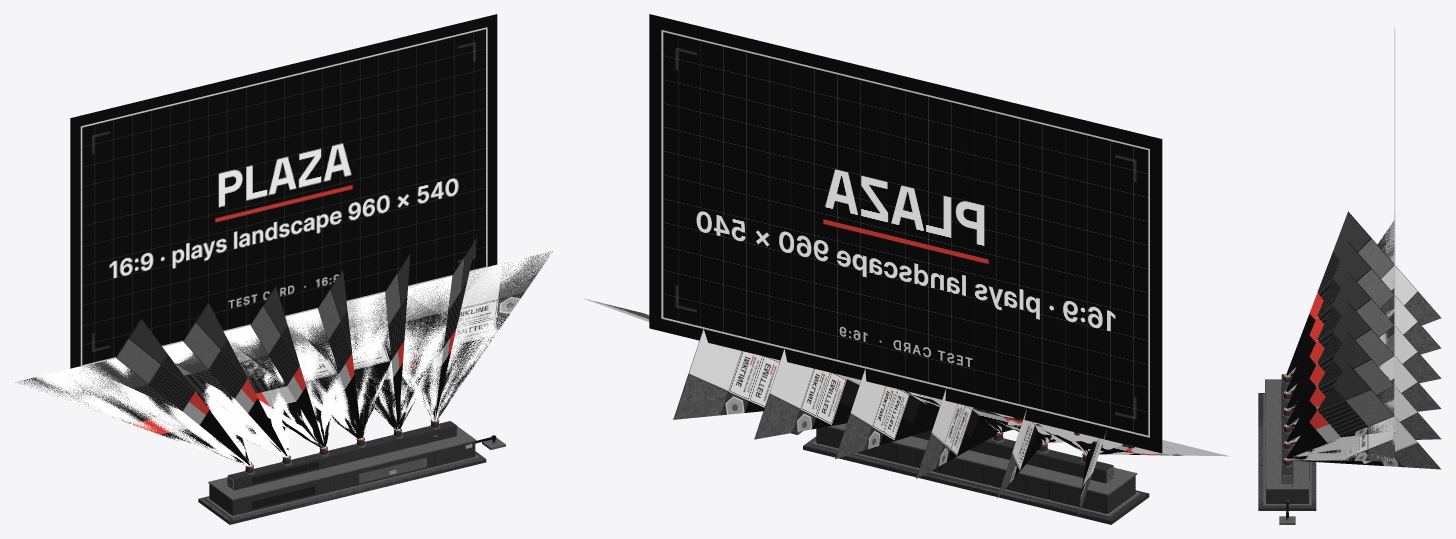
File: display_plaza.glb
3 renders of one model, left to right at view 1: azimuth 30°, elevation 25°; view 2: azimuth 150°, elevation 25°; view 3: azimuth 270°, elevation 25°, orthographic. The views are drawn at different scales.
Visible parts, largest first — view 1: screen_plaza, beam, farBody, body, glow; view 2: screen_plaza, beam, farBody, body, glow; view 3: beam, body, farBody, glow.
Part boxes in pixels (bbox=[...]): screen_plaza: bbox=[82, 29, 485, 364]; beam: bbox=[15, 14, 552, 465]; farBody: bbox=[15, 251, 552, 524]; body: bbox=[198, 419, 505, 524]; glow: bbox=[80, 27, 487, 466]; screen_plaza: bbox=[663, 32, 1148, 435]; beam: bbox=[587, 14, 1183, 517]; farBody: bbox=[584, 298, 1228, 524]; body: bbox=[791, 423, 1146, 523]; glow: bbox=[661, 30, 1149, 455]; beam: bbox=[1286, 211, 1441, 469]; body: bbox=[1258, 374, 1316, 524]; farBody: bbox=[1258, 220, 1394, 510]; glow: bbox=[1281, 28, 1395, 470].
Bounding box in the file's own units: 32 × 21.17 × 10.23.
5 materials, 5 textured.
